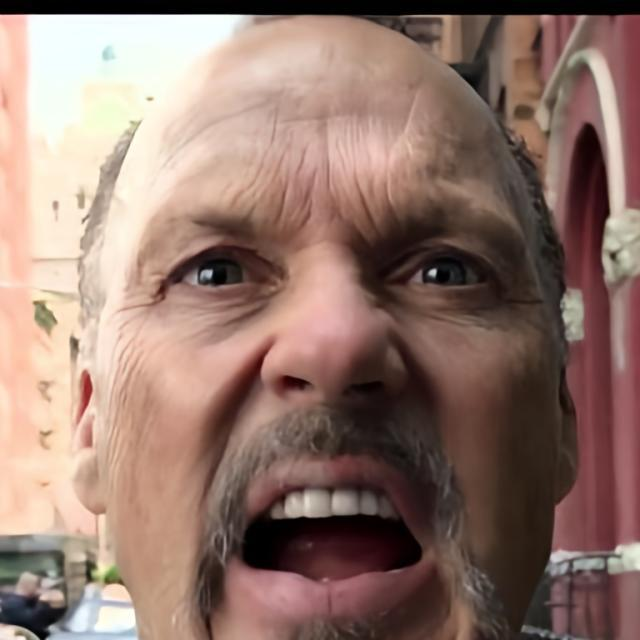anger: (124, 101, 547, 630)
